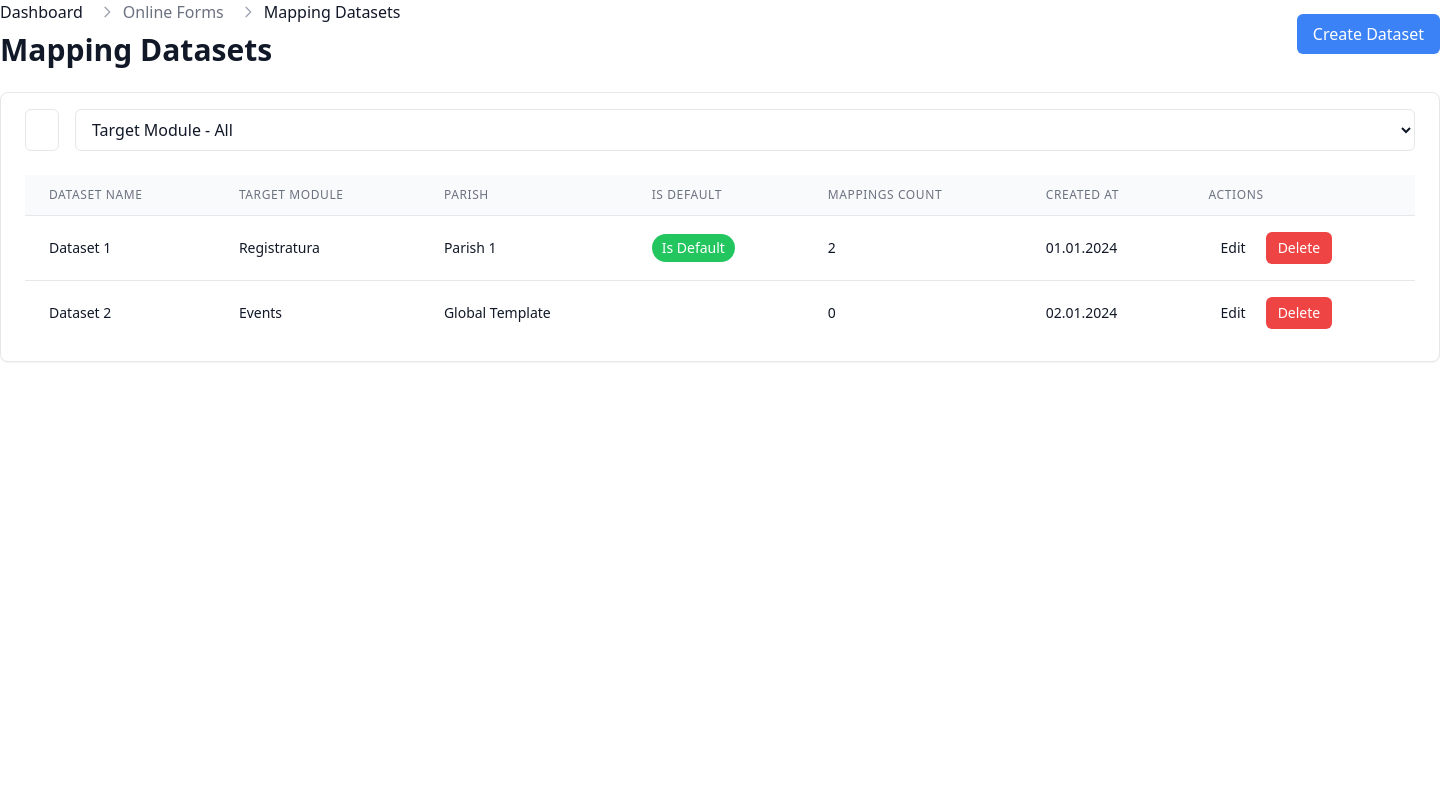
Scenario: MappingDatasetsPageContent › should cancel delete when cancel button is clicked
Click the button "Delete" in the row of "Dataset 1". click: (1299, 248)
box: [1266,232,1332,264]
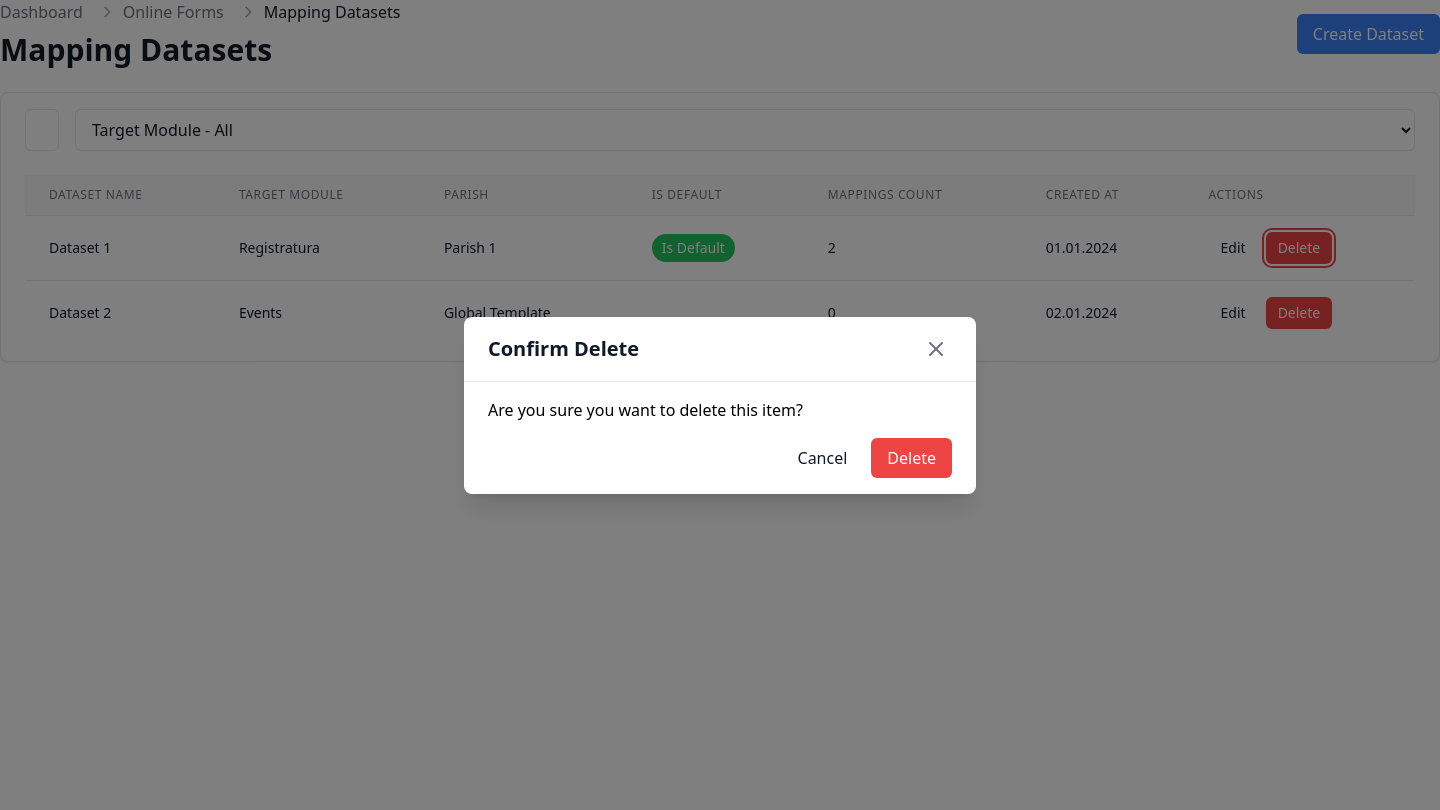
Click the button "Cancel". click: (822, 458)
box: [782,438,863,478]
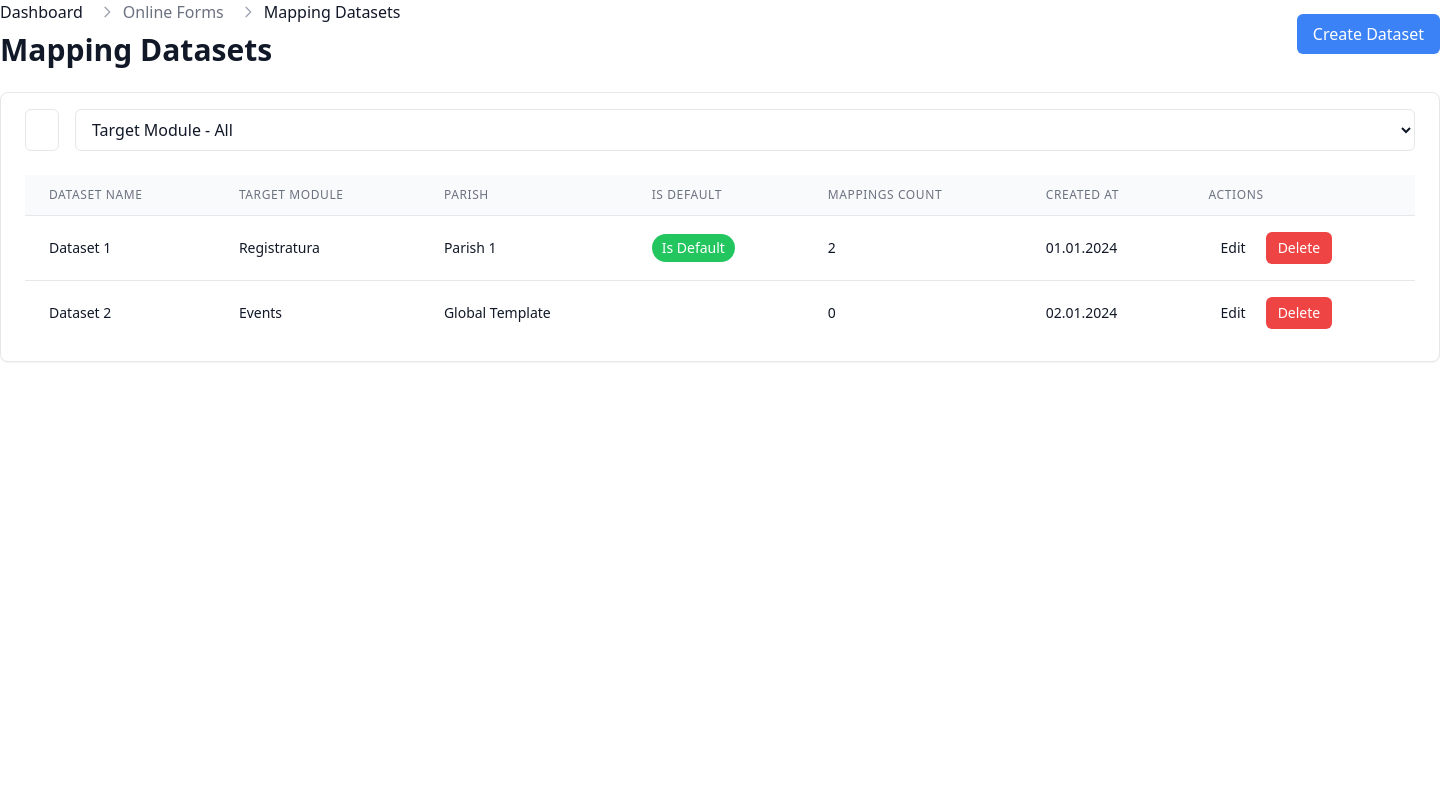
Expected: the heading "Confirm Delete" is gone
